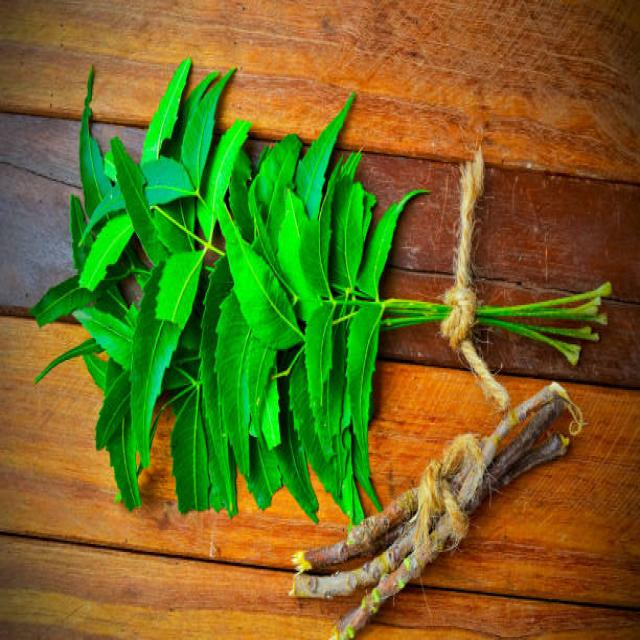Neem-Tree: (32, 60, 450, 523), (223, 186, 325, 343), (474, 284, 610, 362), (148, 203, 210, 330), (75, 293, 138, 381), (136, 338, 160, 420), (248, 391, 275, 446), (301, 289, 336, 322), (96, 190, 111, 211)
